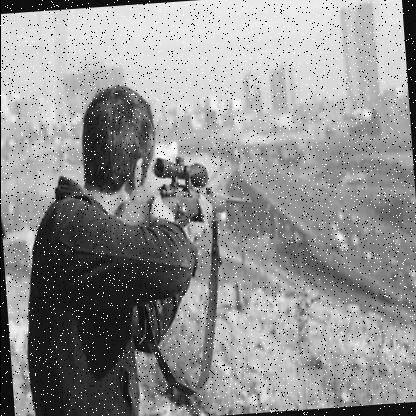rifle: (103, 148, 259, 244)
